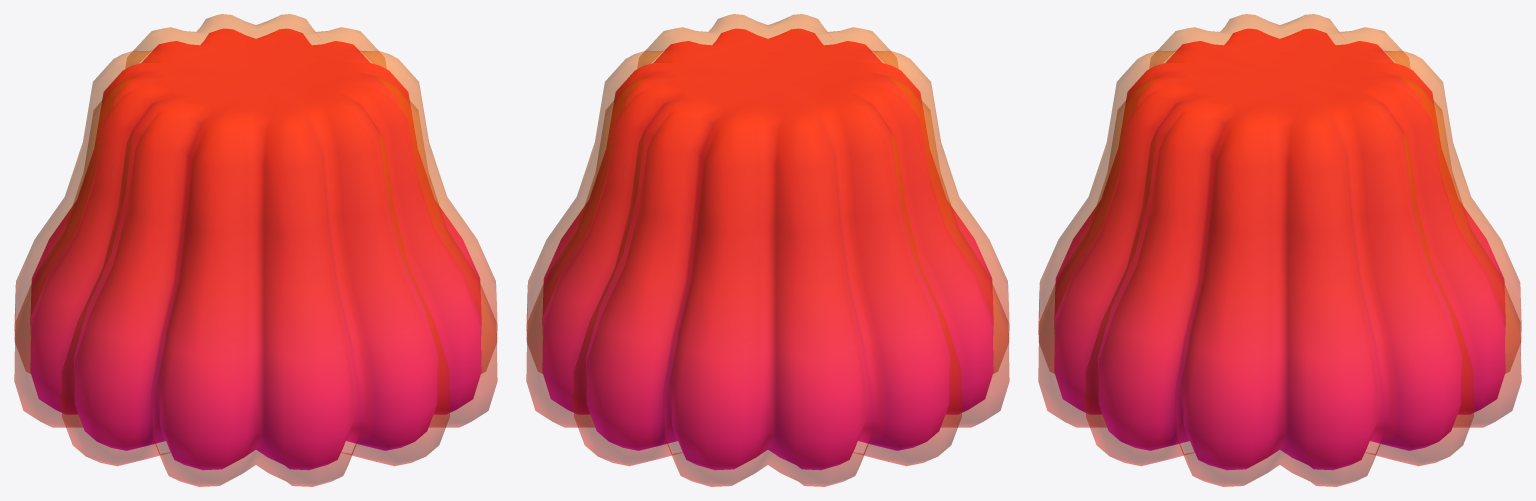
File: Jelly_04.glb
3 renders of one model, left to right at view 1: azimuth 30°, elevation 25°; view 2: azimuth 150°, elevation 25°; view 3: azimuth 270°, elevation 25°, orthographic.
Parts seen in each view (by area): view 1: Jelly_04; view 2: Jelly_04; view 3: Jelly_04.
Part boxes in pixels (bbox=[...]): Jelly_04: bbox=[14, 14, 497, 486]; Jelly_04: bbox=[526, 14, 1009, 486]; Jelly_04: bbox=[1038, 14, 1521, 486].
Bounding box in the file's own units: 16.28 × 12.45 × 16.28.
Materials: 2 (2 with a texture image).
